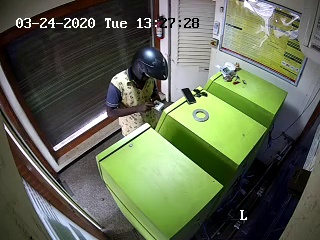helmet: (129, 45, 171, 91)
